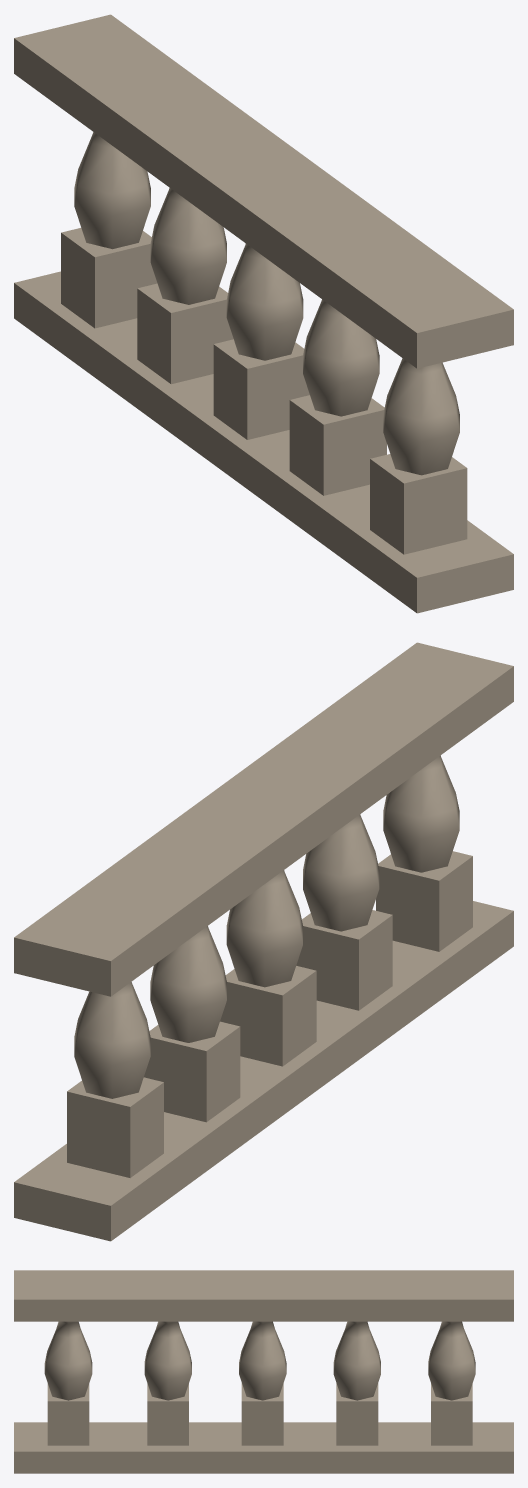
File: SM_Guard_Rail.FBX
3 views of the same model, one above another, from view 1: azimuth 30°, elevation 25°; view 2: azimuth 150°, elevation 25°; view 3: azimuth 270°, elevation 25° (orthographic). The views are drawn at different scales.
Parts seen in each view (by area): view 1: SM_Guard_Rail; view 2: SM_Guard_Rail; view 3: SM_Guard_Rail.
Boxes of the visible parts, bbox=[...] form: SM_Guard_Rail: bbox=[14, 14, 513, 613]; SM_Guard_Rail: bbox=[14, 642, 513, 1241]; SM_Guard_Rail: bbox=[14, 1270, 513, 1473].
Bounding box in the file's own units: 17.26 × 47.7 × 124.
